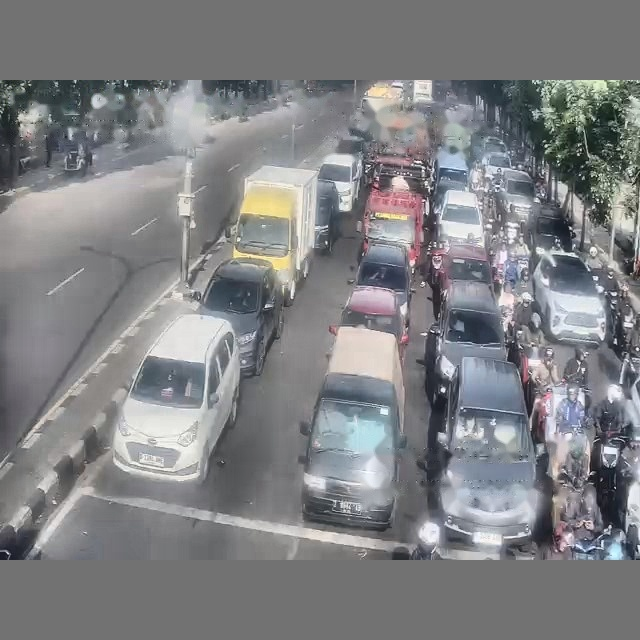Mobil: (431, 356, 539, 556), (112, 314, 240, 482), (300, 327, 406, 529), (424, 281, 506, 406), (196, 258, 283, 375), (532, 251, 606, 345), (329, 286, 408, 356), (349, 243, 412, 325), (318, 153, 362, 212), (437, 190, 484, 243), (528, 210, 575, 263), (495, 169, 539, 224), (441, 244, 492, 291), (314, 180, 339, 253), (335, 135, 366, 163), (481, 152, 510, 178), (482, 136, 507, 155)
Motor: (64, 149, 87, 176)
Truk: (232, 165, 317, 305)
